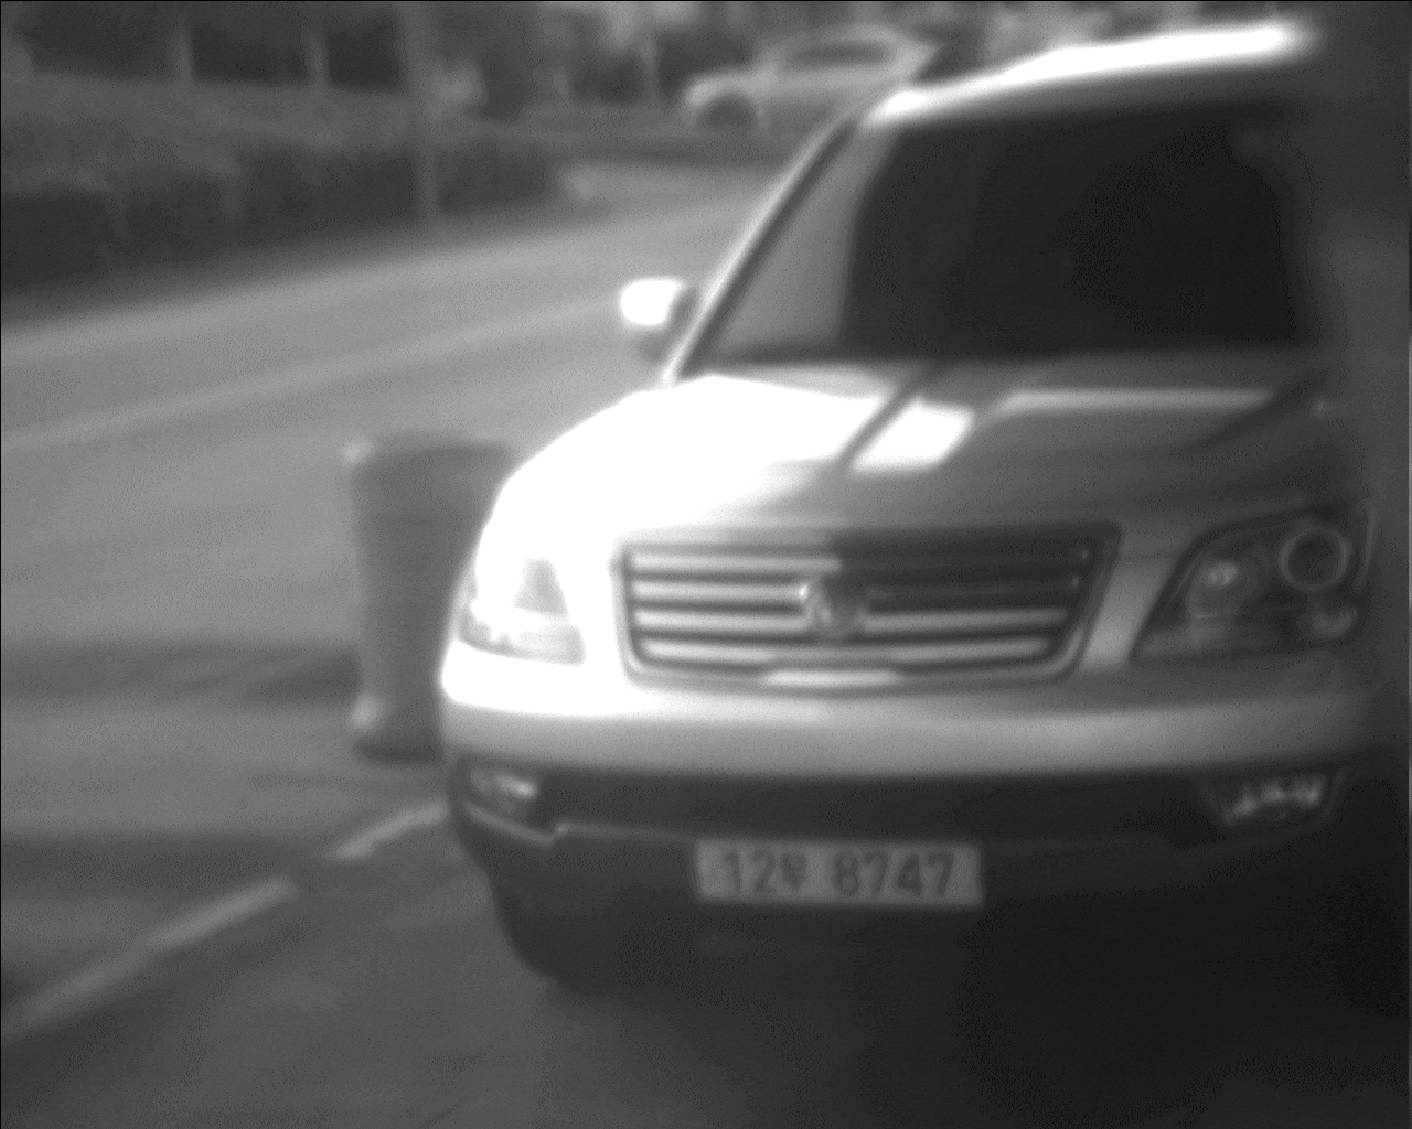car: (437, 18, 1412, 984)
plate: (691, 835, 987, 912)
